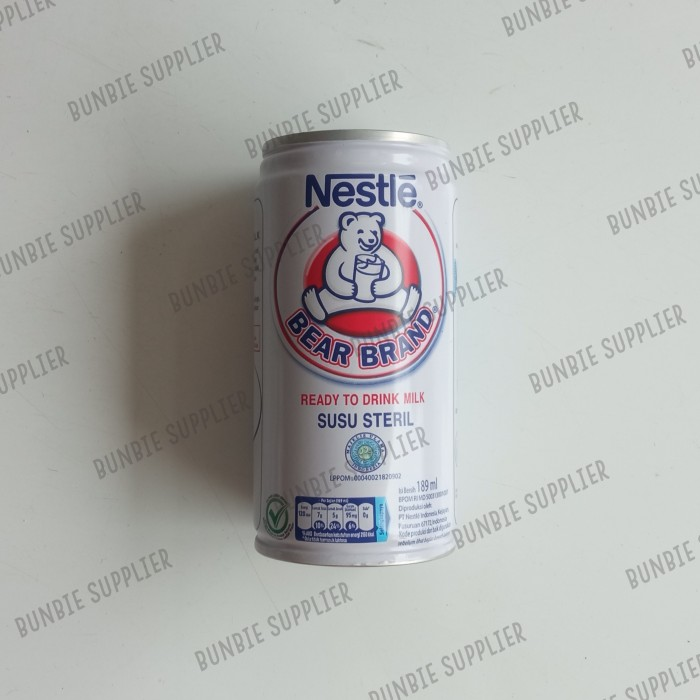Bear Brand Susu Steril (189ml): (249, 128, 462, 578)
